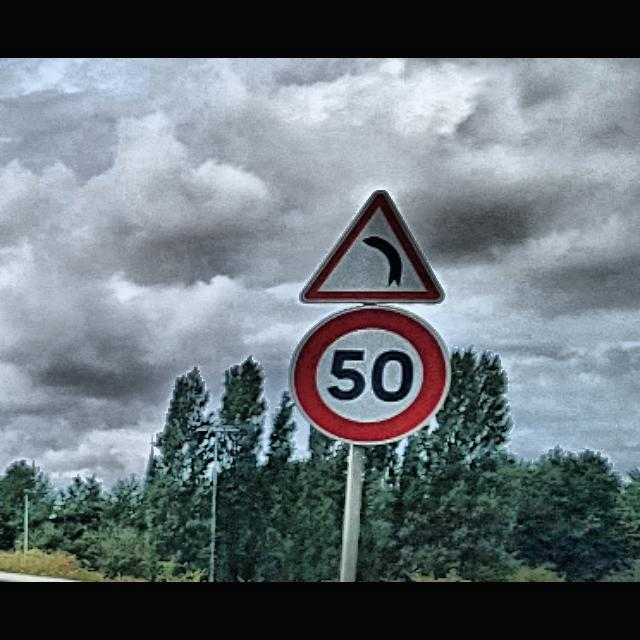speed_50: (291, 303, 451, 443)
